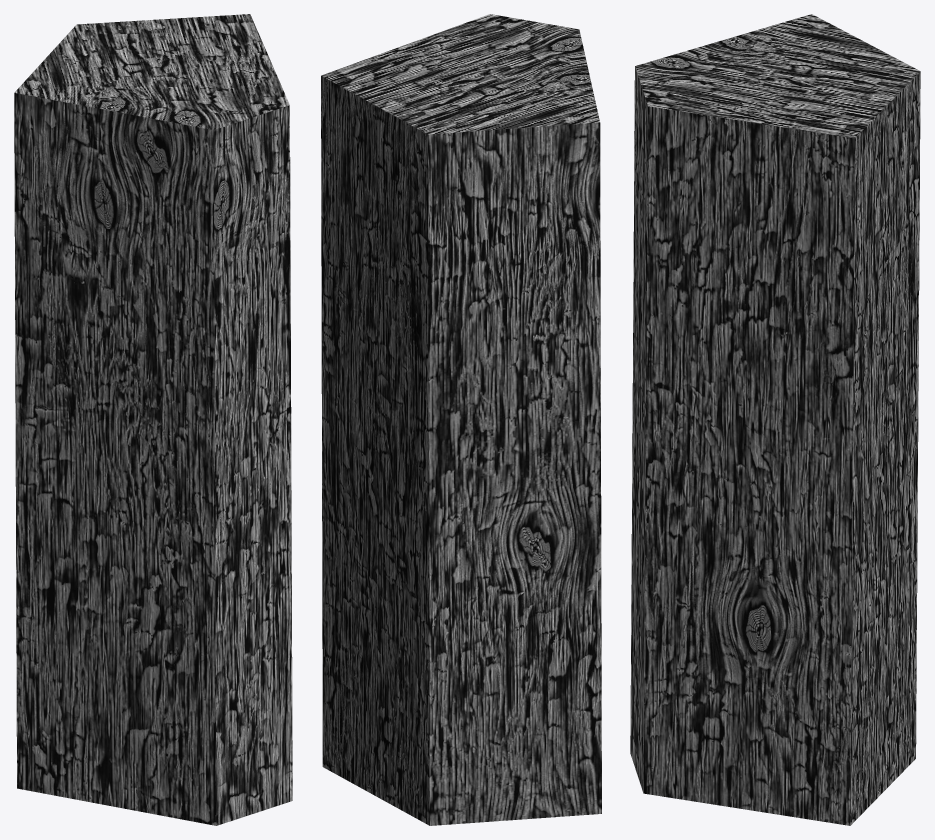
File: log-transformed.glb
3 renders of one model, left to right at view 1: azimuth 30°, elevation 25°; view 2: azimuth 150°, elevation 25°; view 3: azimuth 270°, elevation 25°, orthographic.
Parts seen in each view (by area): view 1: Slice 3; view 2: Slice 3; view 3: Slice 3.
Part boxes in pixels (x1,y1,x2,y2): Slice 3: (14,14,292,825); Slice 3: (321,14,601,825); Slice 3: (630,14,920,825).
Bounding box in the file's own units: 0.7745 × 1.99 × 0.7613.
1 material, 1 textured.
